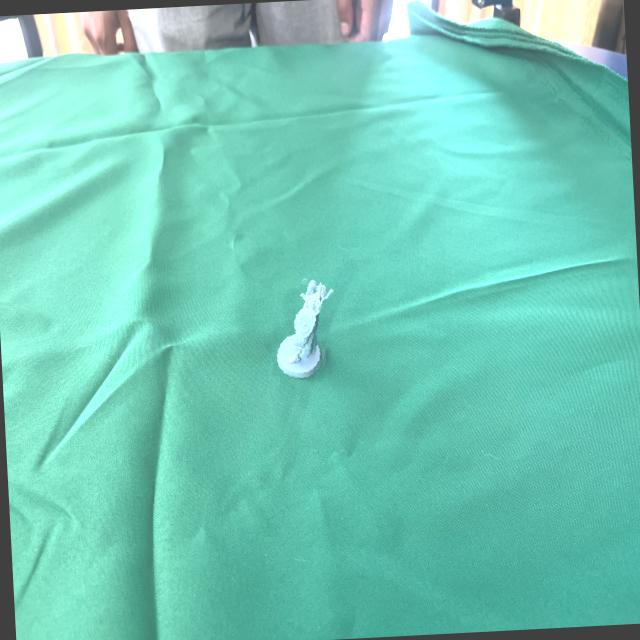isis_follower: (266, 274, 336, 382)
